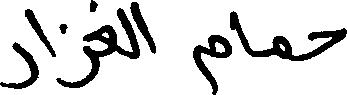X: (57, 0, 94, 92), (0, 4, 37, 93), (194, 30, 229, 94), (307, 23, 346, 64), (132, 0, 155, 63), (96, 0, 113, 79), (231, 6, 248, 58), (117, 2, 130, 63), (39, 19, 55, 61), (272, 31, 290, 64)
